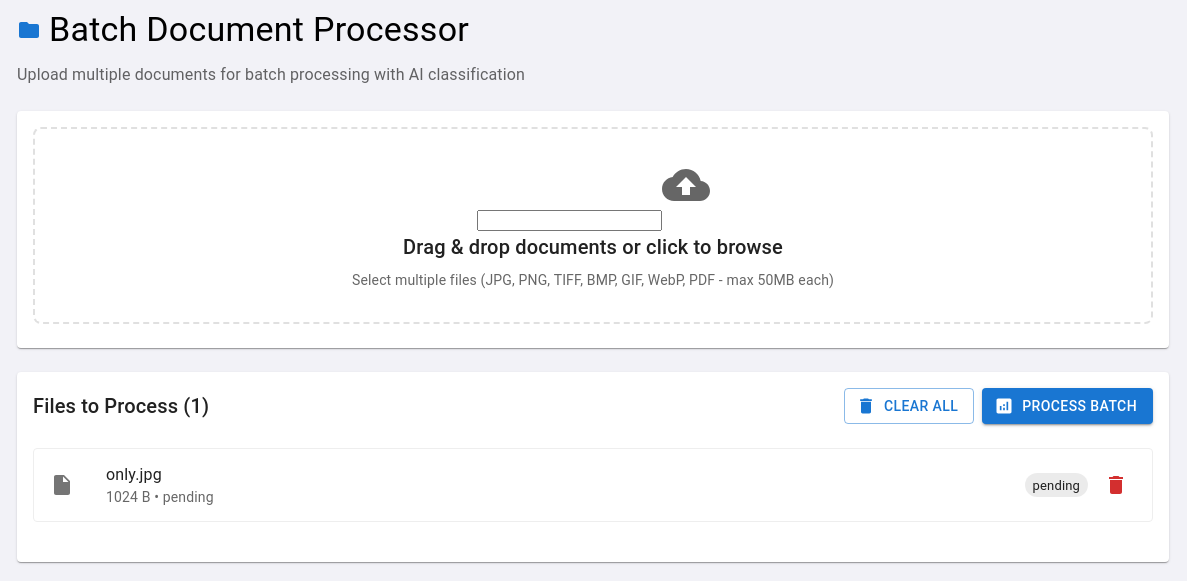
Test case: BatchProcessor › removing a single file › hides the file list section when the last file is removed
Expected: the text "only.jpg" is shown, top-left (106, 465), bottom-right (162, 484)
Click the button named "remove only.jpg from batch" at (1116, 485), box top-left (1096, 465), bottom-right (1136, 505)
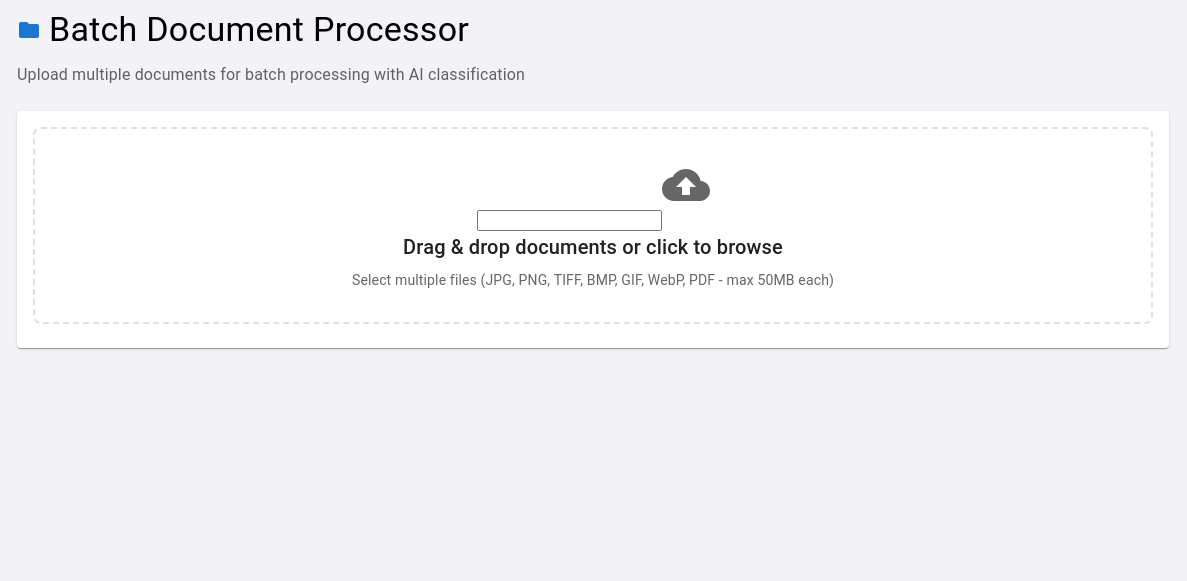
Result: the heading "Files to Process" is gone
